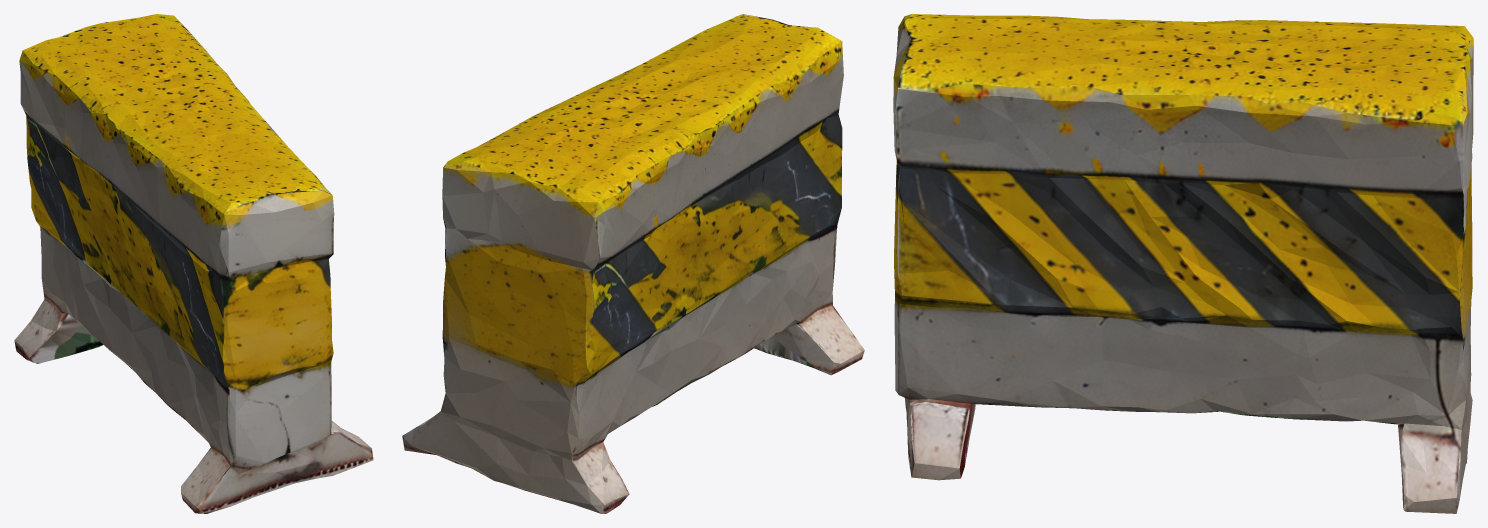
Rendered from concrete_block.glb.
The picture shows the model from 3 angles, left to right: view 1: azimuth 30°, elevation 25°; view 2: azimuth 150°, elevation 25°; view 3: azimuth 270°, elevation 25°; orthographic projection. The views are drawn at different scales.
Parts seen in each view (by area): view 1: temp_mesh.ply; view 2: temp_mesh.ply; view 3: temp_mesh.ply.
Boxes of the visible parts, bbox=[...] form: temp_mesh.ply: bbox=[14, 14, 373, 513]; temp_mesh.ply: bbox=[402, 14, 864, 513]; temp_mesh.ply: bbox=[893, 14, 1473, 513].
Size of the model in its own units: 1.18 by 1.49 by 1.97.
1 material, 1 textured.
